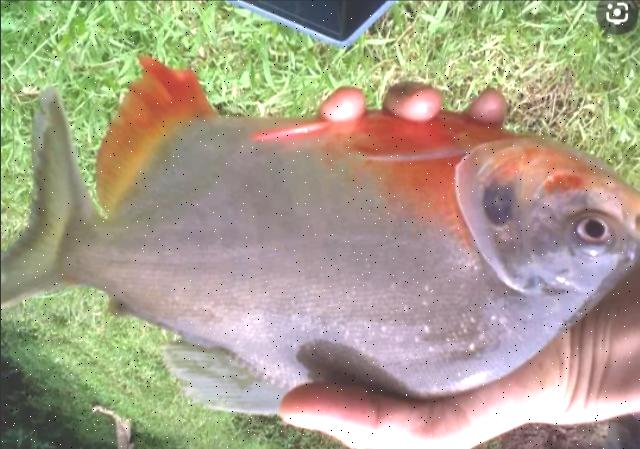Sirip Anal: (73, 43, 221, 229)
Sirip Dada: (338, 111, 488, 181)
Sirip Ekor: (0, 58, 91, 318)
Sirip Perut: (228, 82, 339, 152)
Sirip Punggung: (105, 297, 295, 439)
